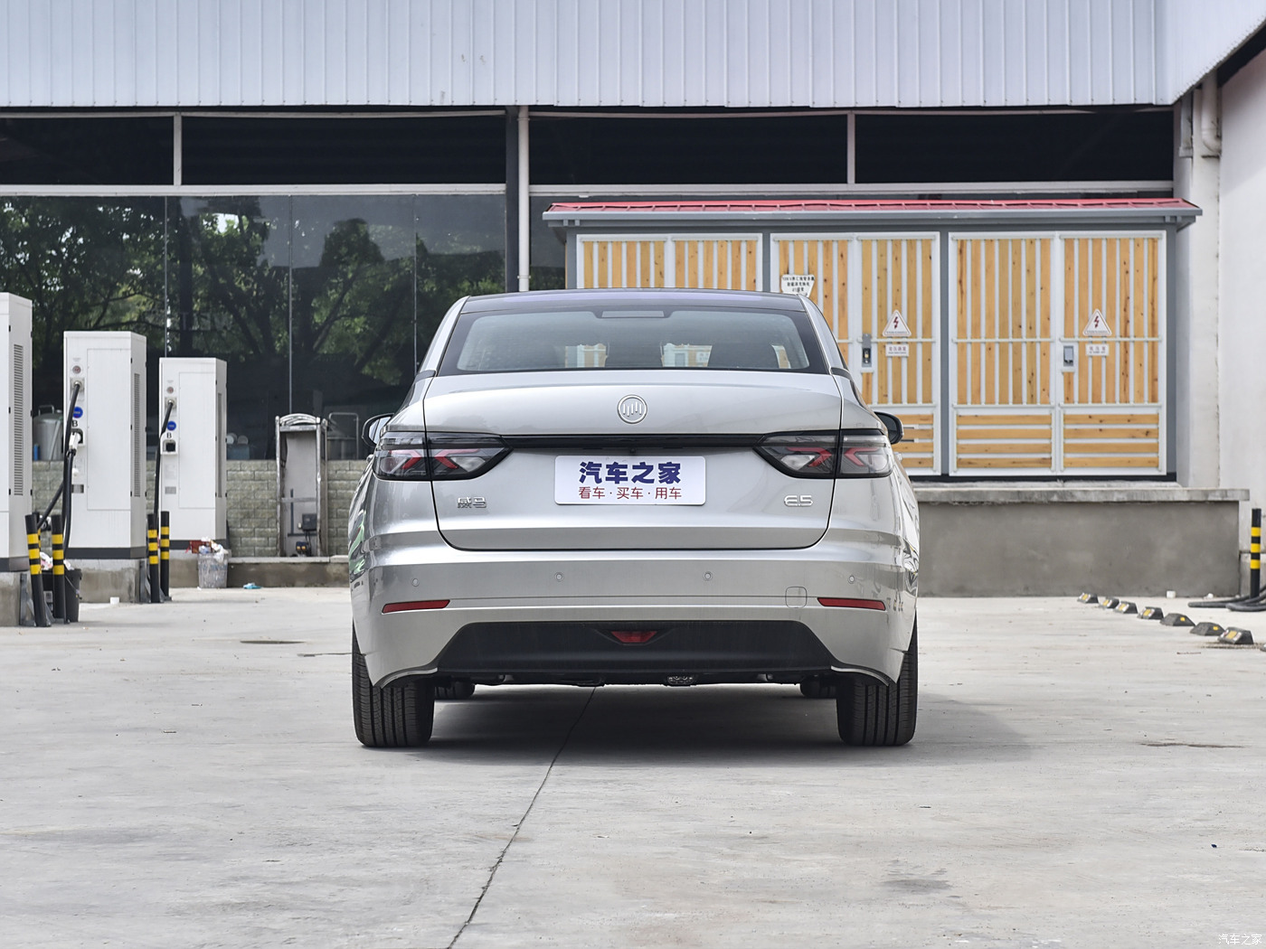WELTMEISTER: (619, 396, 647, 423)
